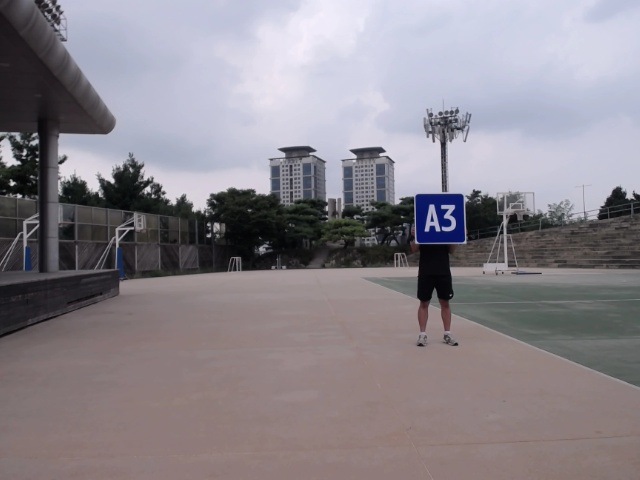delivery_a3: (414, 192, 466, 244)
